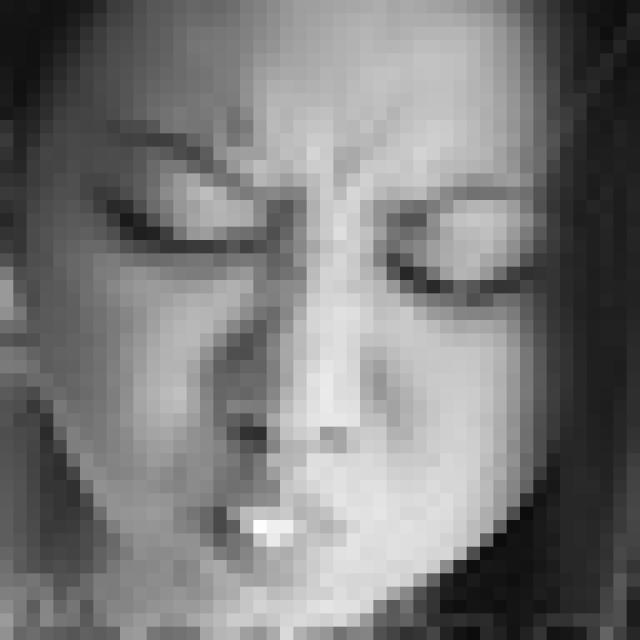disgust: (87, 118, 554, 601)
